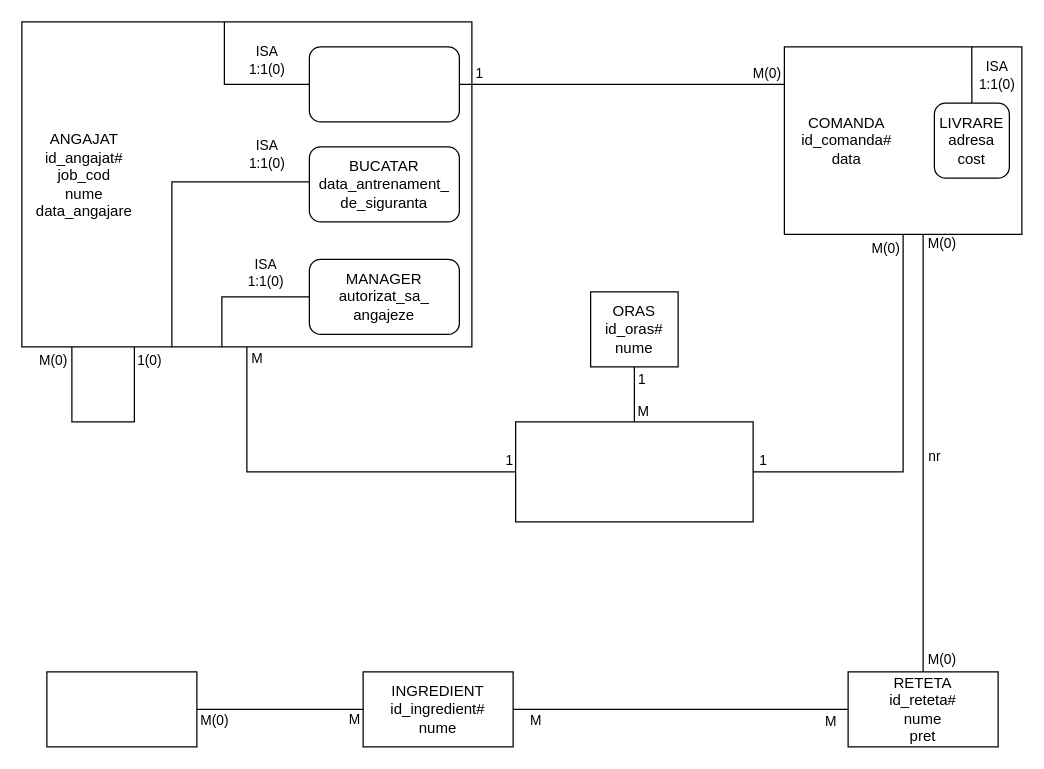
This 1044x769 diagram has some shape labels left out. Here are the shapes that lost their labels. From the top down, the centre of each, then its label:
(383,84): CASIER nr_casa_de_marcat
(633,471): RESTAURANT id_restaurant# data_deschidere
(121,709): ALERGIE id_alergie# nume
